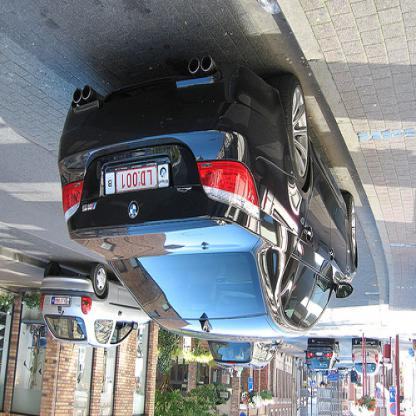car: (56, 40, 364, 352), (38, 257, 155, 355), (210, 338, 288, 376), (350, 337, 386, 383), (306, 340, 347, 377)
